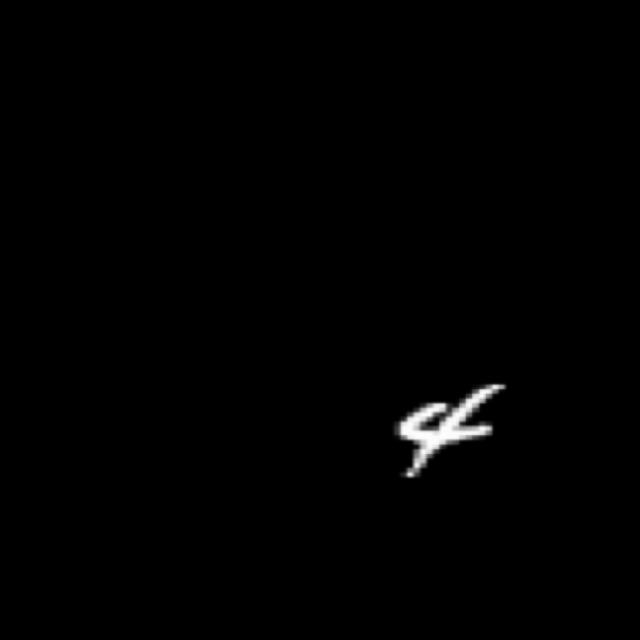four -4-: (376, 377, 517, 481)
